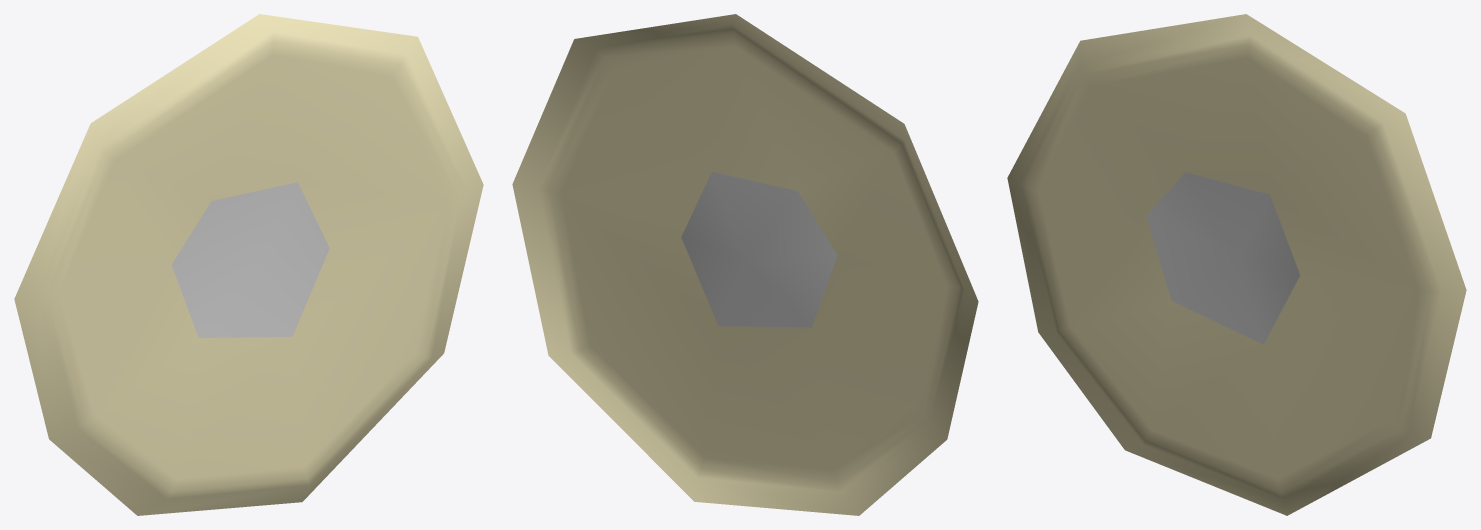
Rendered from ui_slider_knob.glb.
3 renders of one model, left to right at view 1: azimuth 30°, elevation 25°; view 2: azimuth 150°, elevation 25°; view 3: azimuth 330°, elevation 25°, orthographic.
Visible parts, largest first — view 1: Cube; view 2: Cube; view 3: Cube.
Boxes of the visible parts, x1=… form: Cube: x1=14, y1=14, x2=483, y2=515; Cube: x1=512, y1=14, x2=978, y2=515; Cube: x1=1007, y1=14, x2=1466, y2=515.
Bounding box in the file's own units: 2.03 × 2.07 × 0.0701.
